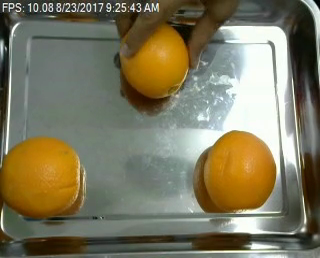Orange: (1, 137, 81, 217), (201, 129, 276, 210)
